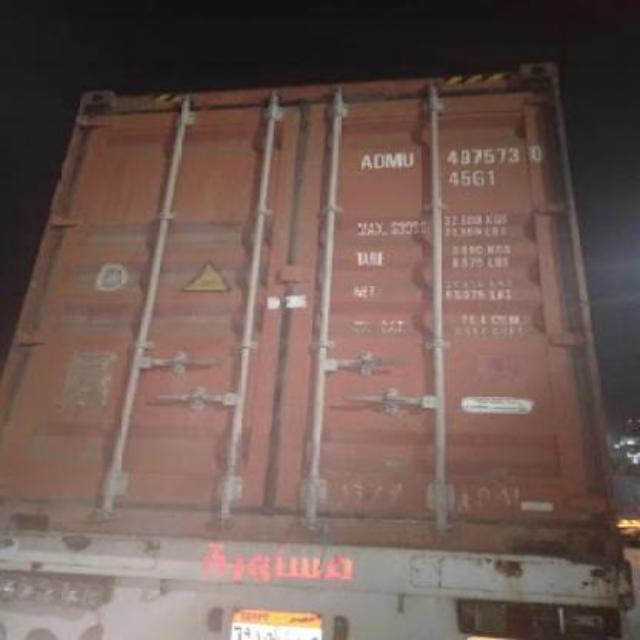0: (532, 146, 544, 162)
3: (508, 146, 520, 164)
4: (446, 152, 458, 164)
5: (484, 147, 496, 165)
7: (472, 147, 484, 167), (496, 147, 508, 165)
9: (460, 149, 472, 167)
A: (358, 152, 372, 170)
D: (374, 152, 386, 168)
M: (388, 152, 402, 168)
U: (402, 152, 416, 168)
